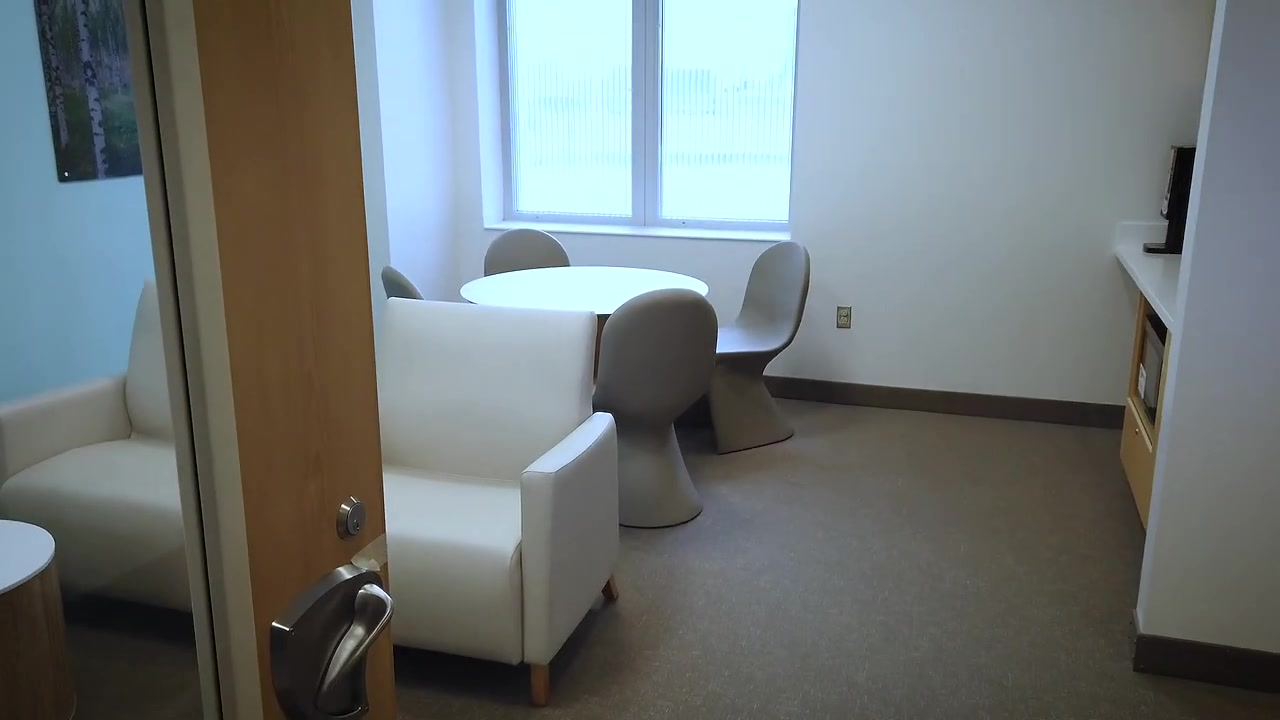chair: (593, 288, 719, 529), (706, 241, 811, 455), (484, 228, 571, 277), (381, 265, 426, 300)
countertop: (1115, 245, 1181, 334)
door_handle: (270, 563, 395, 720)
sofa: (1, 283, 622, 706)
table: (460, 266, 710, 378), (1, 519, 80, 720)
